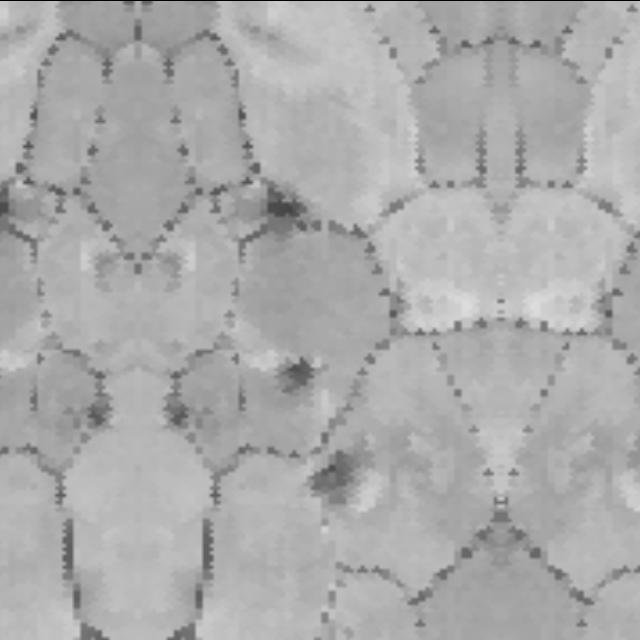good_void: (303, 445, 362, 520), (245, 168, 310, 235), (83, 367, 115, 439), (163, 367, 194, 439), (274, 360, 320, 399), (0, 181, 21, 228)
